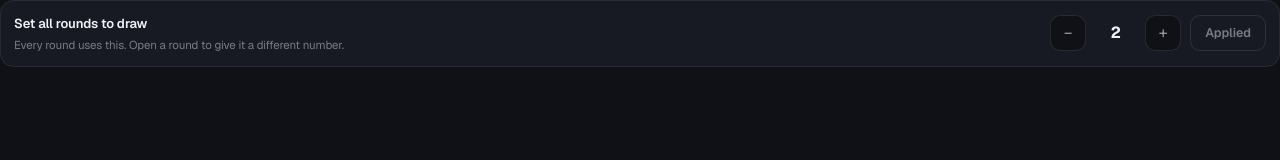
Scenario: RoundsBulkBar › re-enables Apply as soon as the stepper is nudged off what every round already shares
Expected: the button "Applied" is disabled, top-left (1190, 15), bottom-right (1266, 51)
Step 1. Click the button named "Increase" → (1163, 33), box top-left (1145, 15), bottom-right (1181, 51)
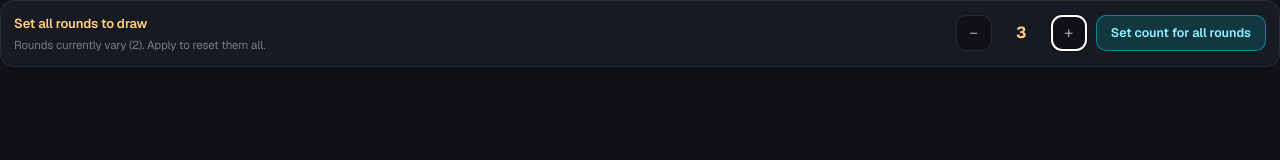
Now the button "Set count for all rounds" is enabled, box top-left (1096, 15), bottom-right (1266, 51)
